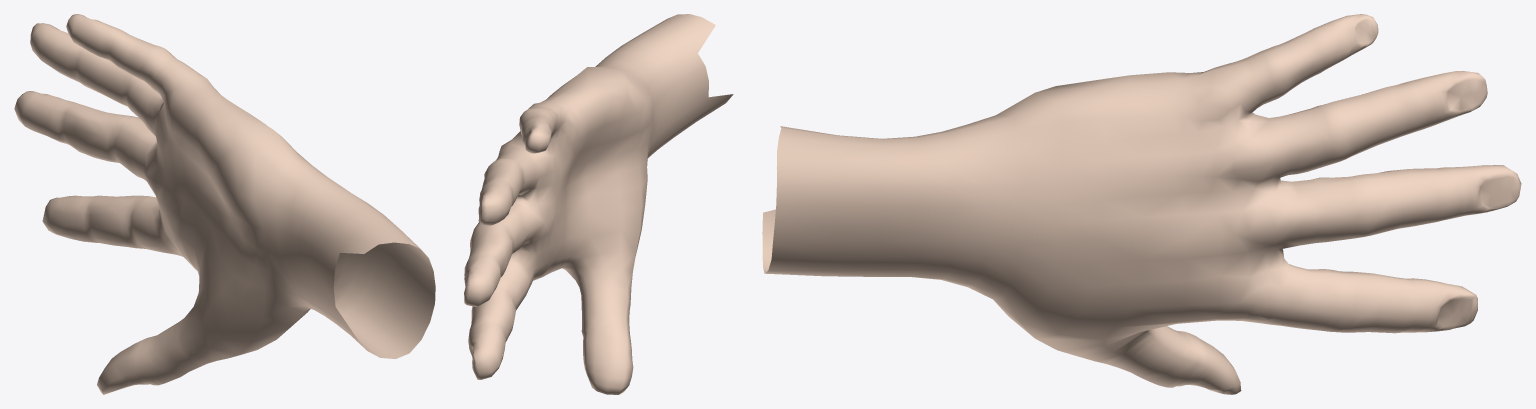
Rendered from human_lefthand.dae.
The picture shows the model from 3 angles, left to right: view 1: azimuth 30°, elevation 25°; view 2: azimuth 150°, elevation 25°; view 3: azimuth 270°, elevation 25°; orthographic projection. The views are drawn at different scales.
Parts seen in each view (by area): view 1: frank_skeleton-base; view 2: frank_skeleton-base; view 3: frank_skeleton-base.
Part boxes in pixels (x1,y1,x2,y2): frank_skeleton-base: (14, 14, 435, 394); frank_skeleton-base: (464, 14, 733, 394); frank_skeleton-base: (762, 14, 1521, 394).
Size of the model in its own units: 0.0761 by 0.2681 by 0.1531.
